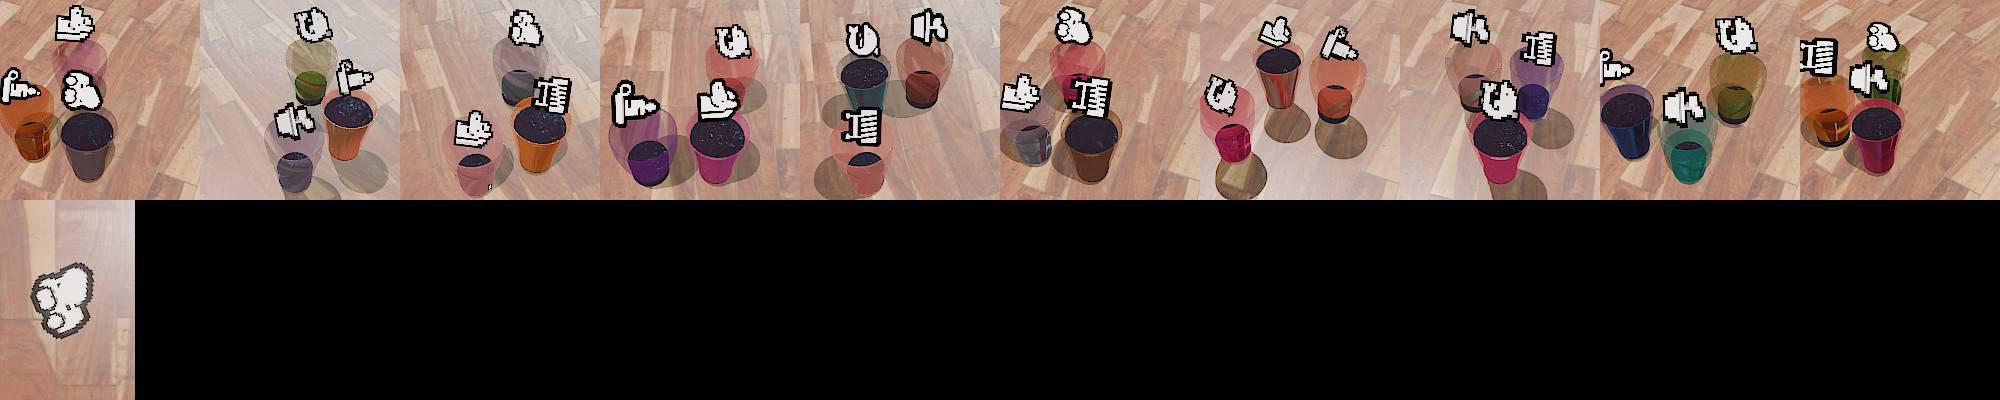icon: (26, 257, 99, 341), (610, 78, 659, 127), (1065, 73, 1111, 120), (1659, 87, 1708, 127), (696, 78, 740, 122), (273, 98, 319, 140), (1713, 15, 1760, 56), (61, 69, 103, 112), (1000, 70, 1041, 113), (1480, 78, 1520, 121), (1797, 37, 1839, 78), (533, 74, 573, 117), (1848, 60, 1893, 98), (1450, 8, 1491, 48), (54, 4, 96, 43), (333, 59, 376, 97), (1054, 5, 1093, 46), (841, 106, 880, 146), (1319, 24, 1361, 62), (454, 108, 494, 148), (0, 66, 41, 104), (292, 6, 332, 45), (909, 8, 949, 46), (1518, 29, 1557, 68), (843, 20, 881, 59), (713, 23, 753, 60), (1204, 73, 1239, 115), (1599, 47, 1635, 87), (508, 8, 542, 47), (1258, 14, 1293, 48), (1866, 20, 1899, 52)
